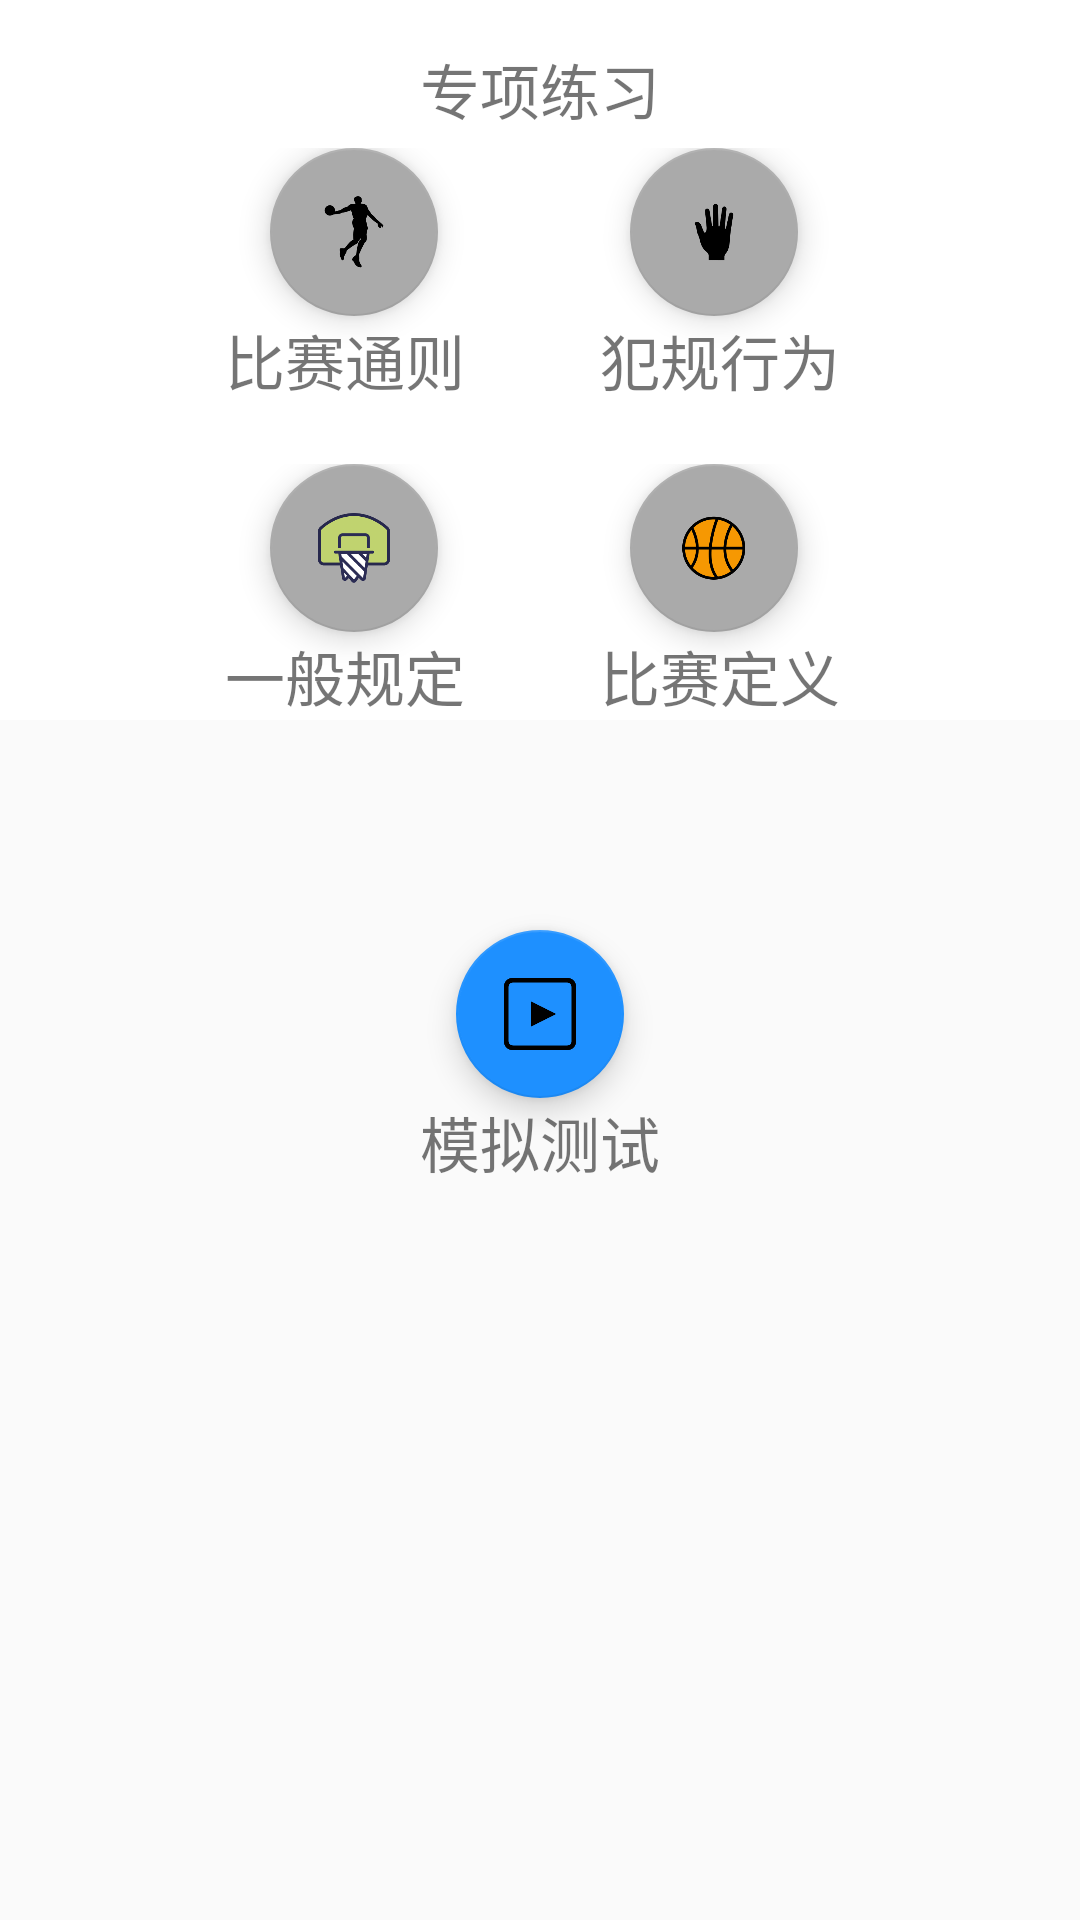

Icon bounding boxes for this 1080 × 1920 phone screenshot, format (x1, y1, x2, y2):
lanqiu: (630, 464, 798, 632)
lanqiukuang: (270, 464, 438, 632)
shouzhang: (630, 148, 798, 316)
tiyulanqiu: (270, 148, 438, 316)
